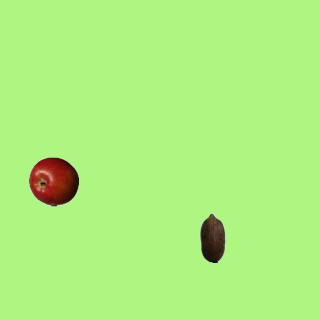Apple Braeburn: (28, 156, 78, 206)
Nut Pecan: (187, 212, 237, 262)
